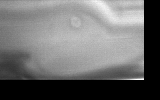cell: (67, 13, 84, 31)
